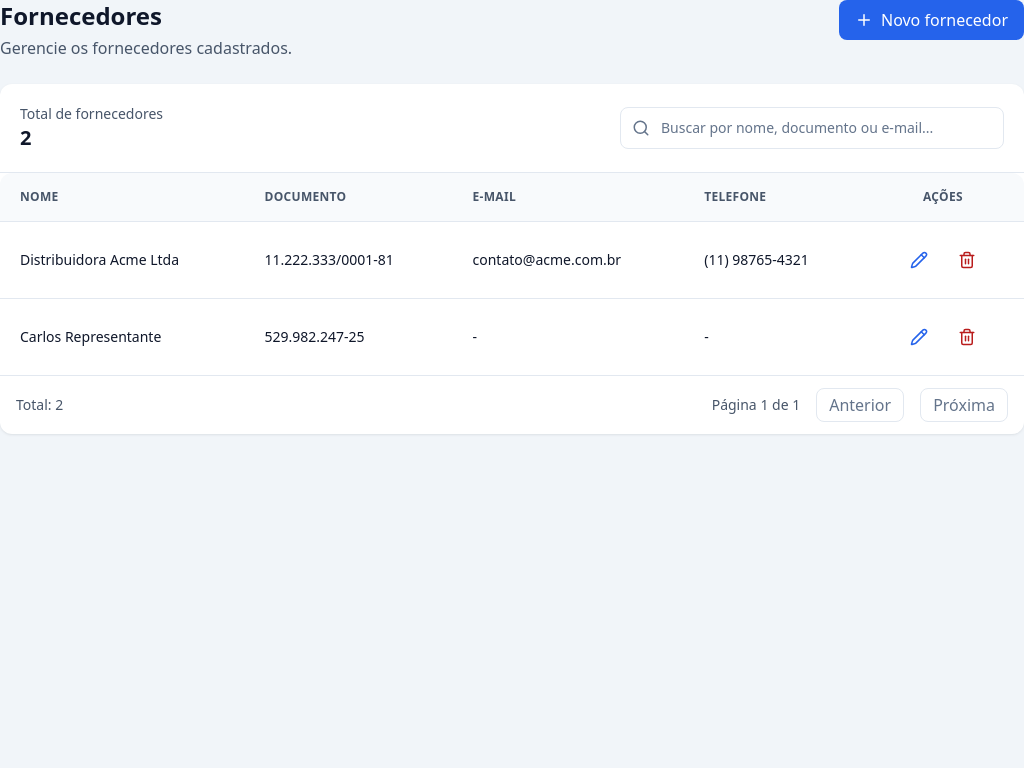
SupplierListPage › excluir pede confirmação; 409 SUPPLIER_IN_USE aparece uma vez
The image size is (1024, 768).
Expected: the text "Distribuidora Acme Ltda" is shown, 0,222 -> 244,298
Click the button named "Excluir Distribuidora Acme Ltda" at (967, 260), box 945,238 -> 989,282
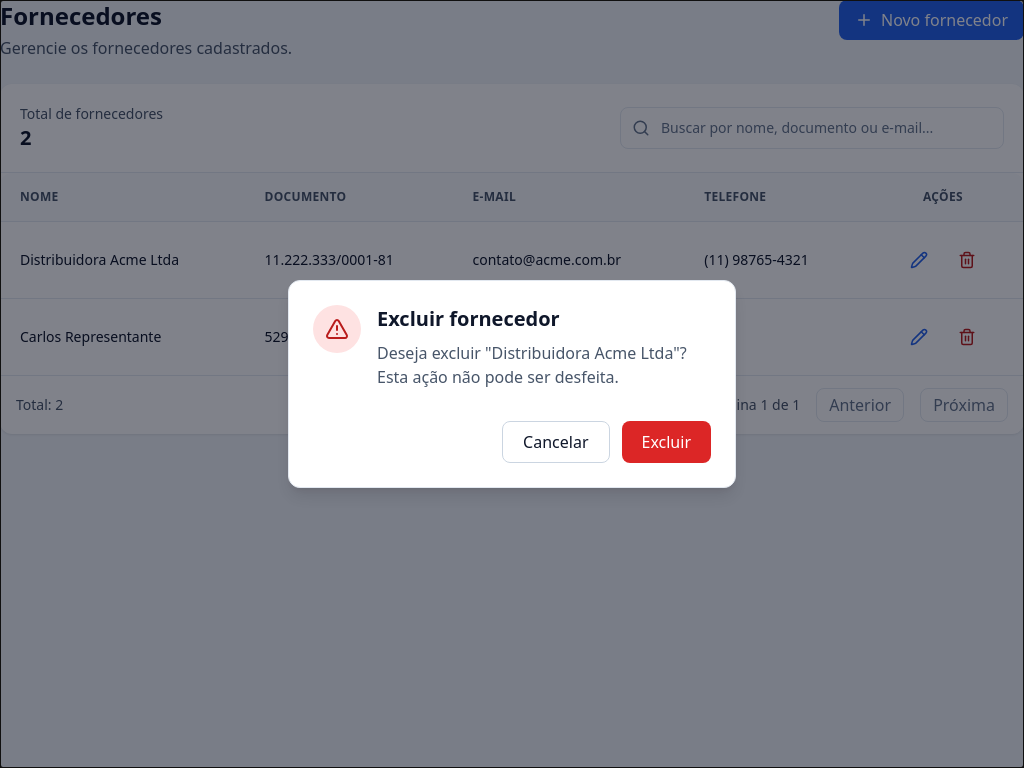
Click the button "Excluir" at (666, 442), box 622,421 -> 711,463
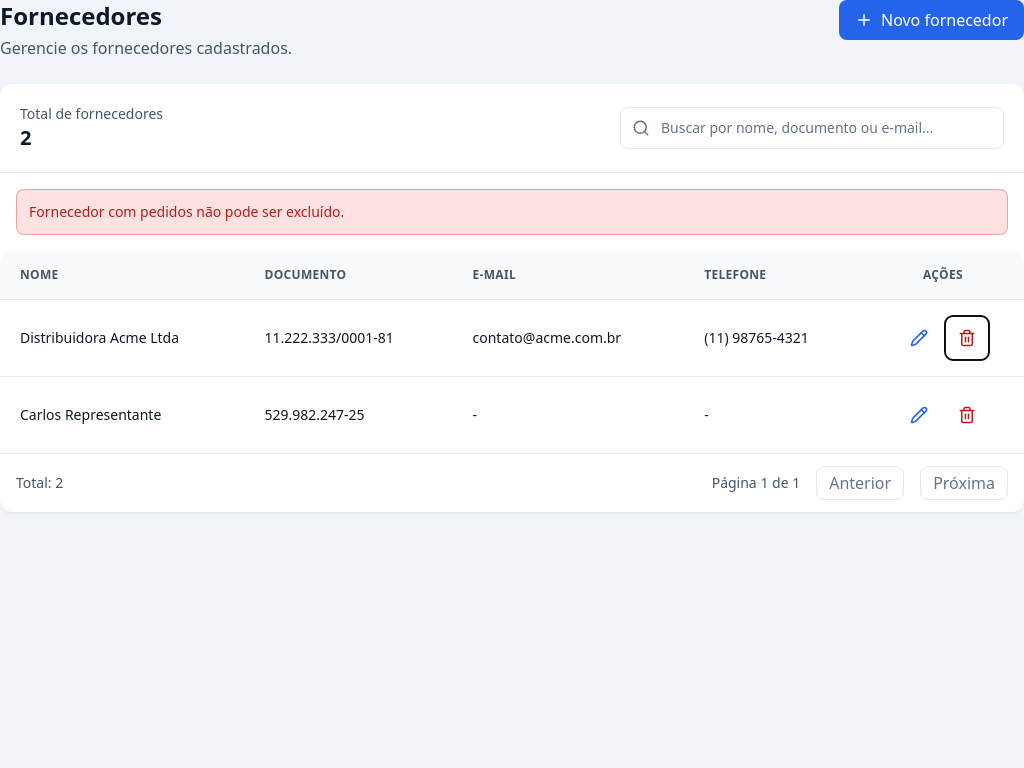
Expected: the text "Fornecedor com pedidos não pode ser excluído." is shown once, 16,189 -> 1008,235
